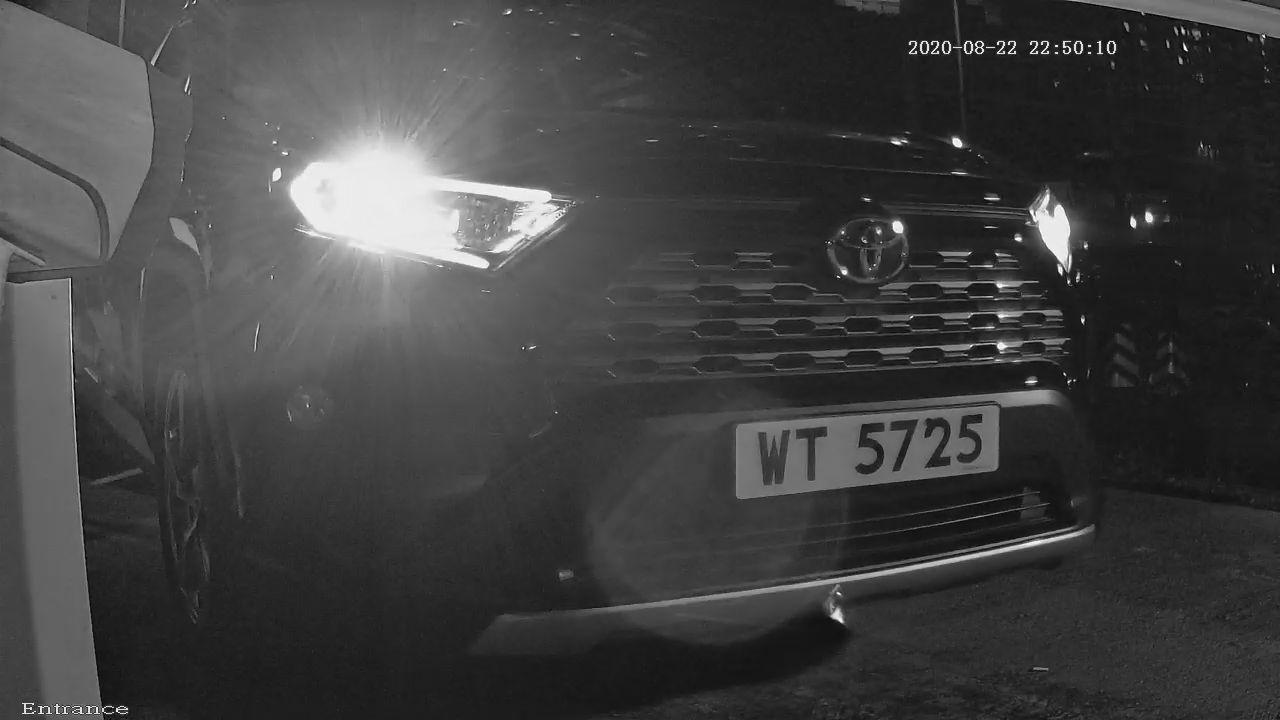License Plate: (686, 351, 1078, 539)
